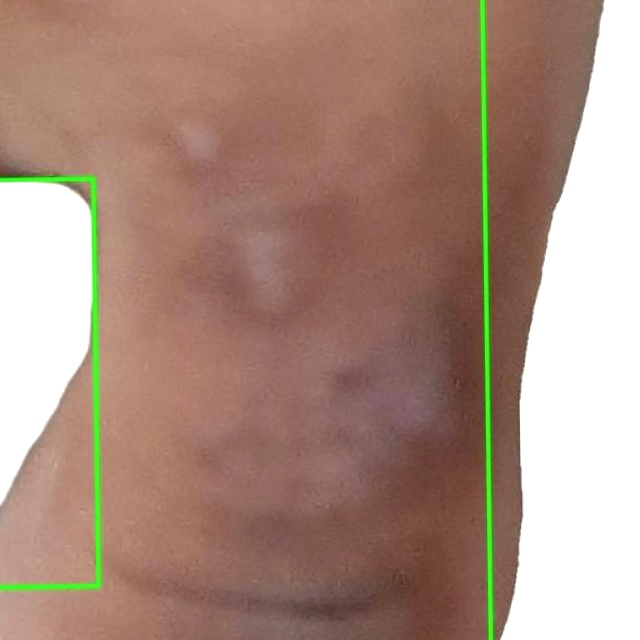Contact Dermatitis: (482, 0, 639, 639), (0, 178, 98, 587)
